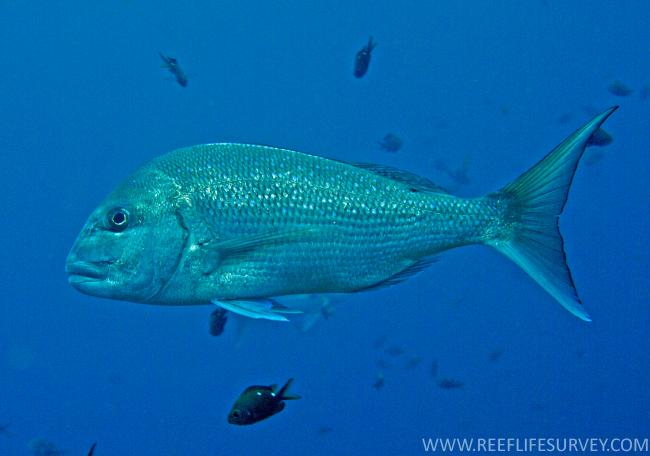fish: (65, 105, 621, 322)
